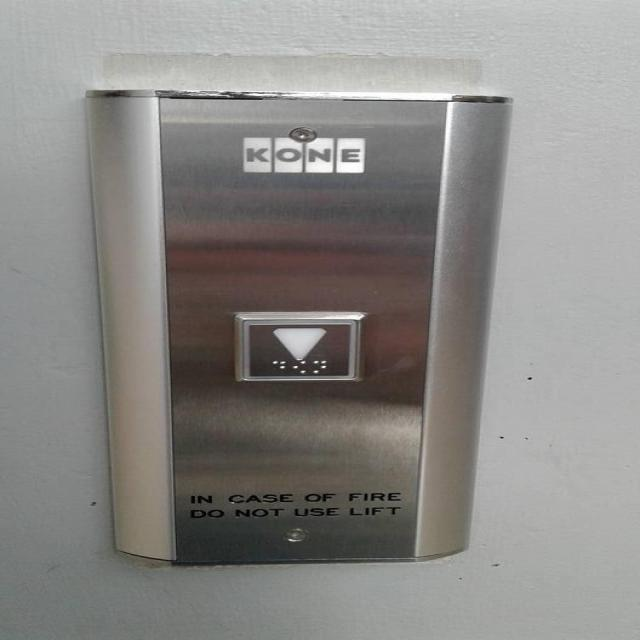down: (225, 308, 368, 388)
